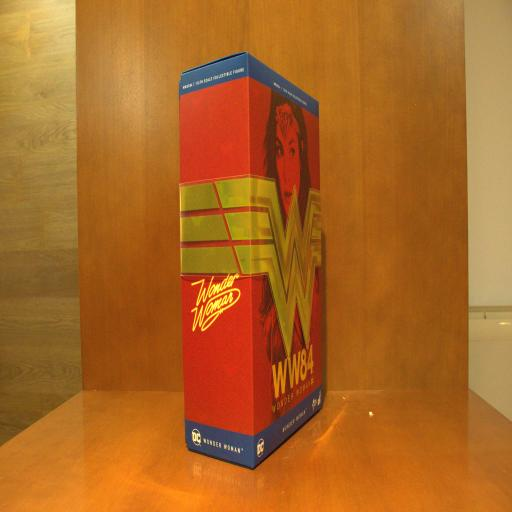WonderWoman: (176, 49, 329, 471)
